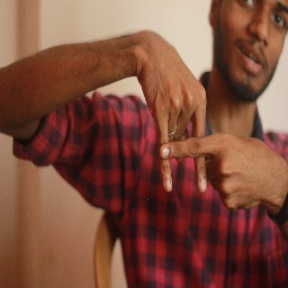H: (138, 87, 240, 203)
